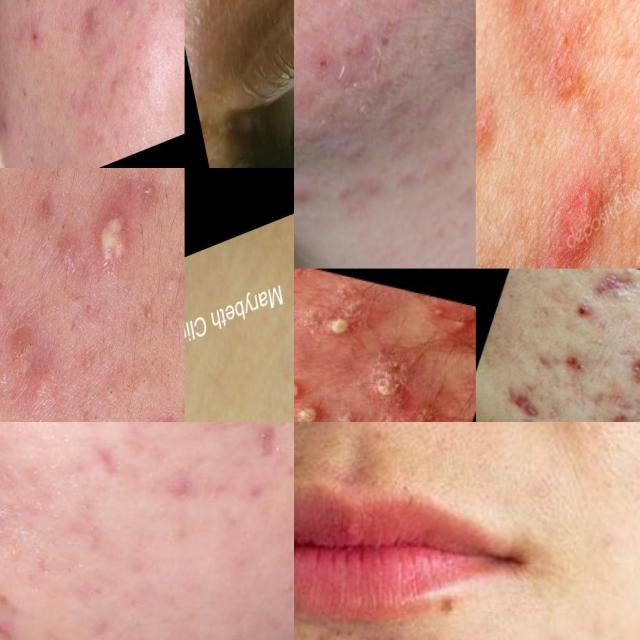acne_scars: (234, 422, 294, 473), (232, 481, 294, 517), (589, 268, 640, 309), (83, 432, 118, 488), (500, 385, 541, 421), (529, 344, 566, 376), (596, 399, 640, 422), (624, 349, 640, 393)
comedone: (294, 166, 313, 216), (108, 0, 139, 30), (46, 24, 72, 58), (555, 268, 601, 284)
cystic: (72, 0, 105, 53)
folliculitis: (303, 301, 370, 350), (294, 396, 330, 422), (294, 370, 310, 406)
papule: (158, 457, 203, 523)
pustule: (433, 303, 476, 345)
sebo-crystan-conglo: (536, 154, 623, 269), (352, 338, 431, 416), (86, 192, 141, 294), (91, 353, 128, 415), (30, 214, 65, 263), (51, 397, 79, 422)
